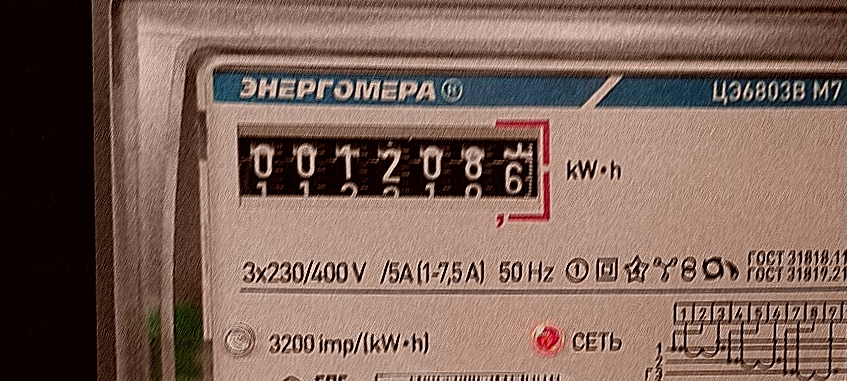0: (247, 140, 274, 180), (291, 142, 316, 179), (416, 144, 441, 180)
1: (333, 142, 355, 181)
2: (375, 146, 402, 185)
6: (499, 159, 522, 196)
8: (457, 144, 483, 181)
screen: (227, 112, 558, 231)
